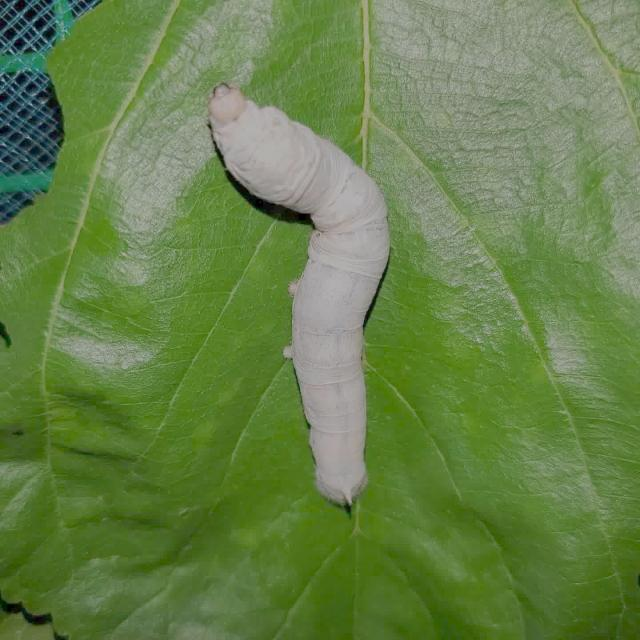Healthy: (200, 76, 398, 512)
